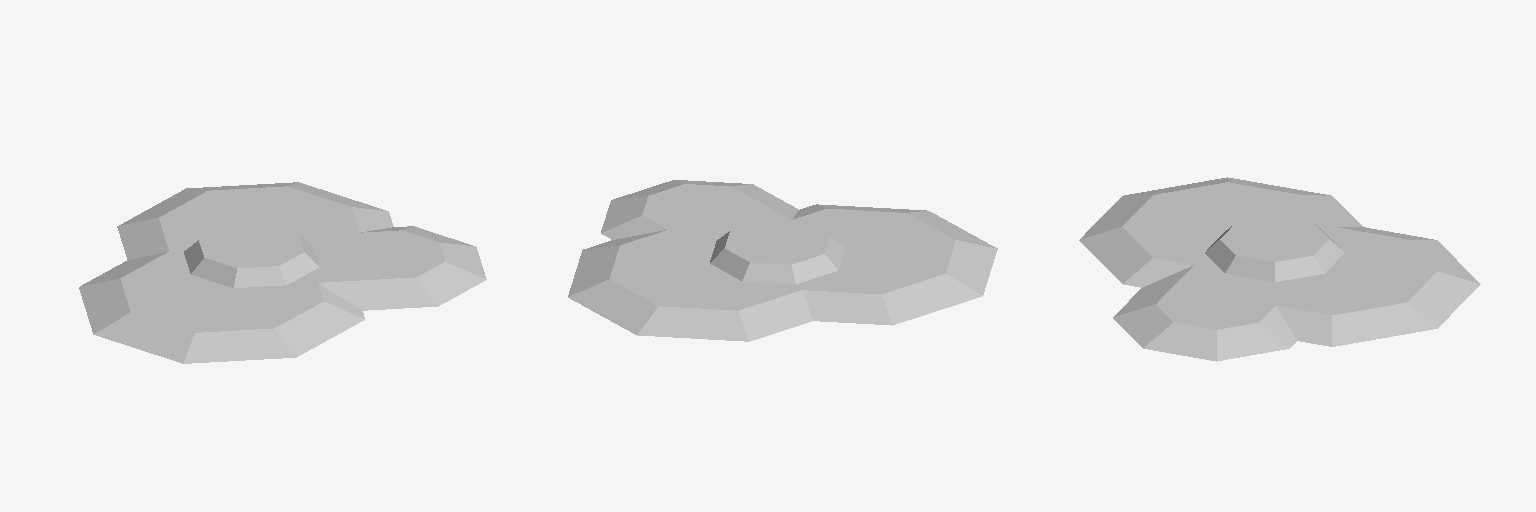
File: egg-cooked.obj
3 views of the same model, side by side, from view 1: azimuth 30°, elevation 25°; view 2: azimuth 150°, elevation 25°; view 3: azimuth 270°, elevation 25° (orthographic).
Visible parts, largest first — view 1: egg-cooked; view 2: egg-cooked; view 3: egg-cooked.
Part boxes in pixels (left/top/right/bottom): egg-cooked: left=79, top=182, right=486, bottom=363; egg-cooked: left=568, top=180, right=997, bottom=341; egg-cooked: left=1079, top=177, right=1480, bottom=361.
Bounding box in the file's own units: 0.4141 × 0.0282 × 0.3817.